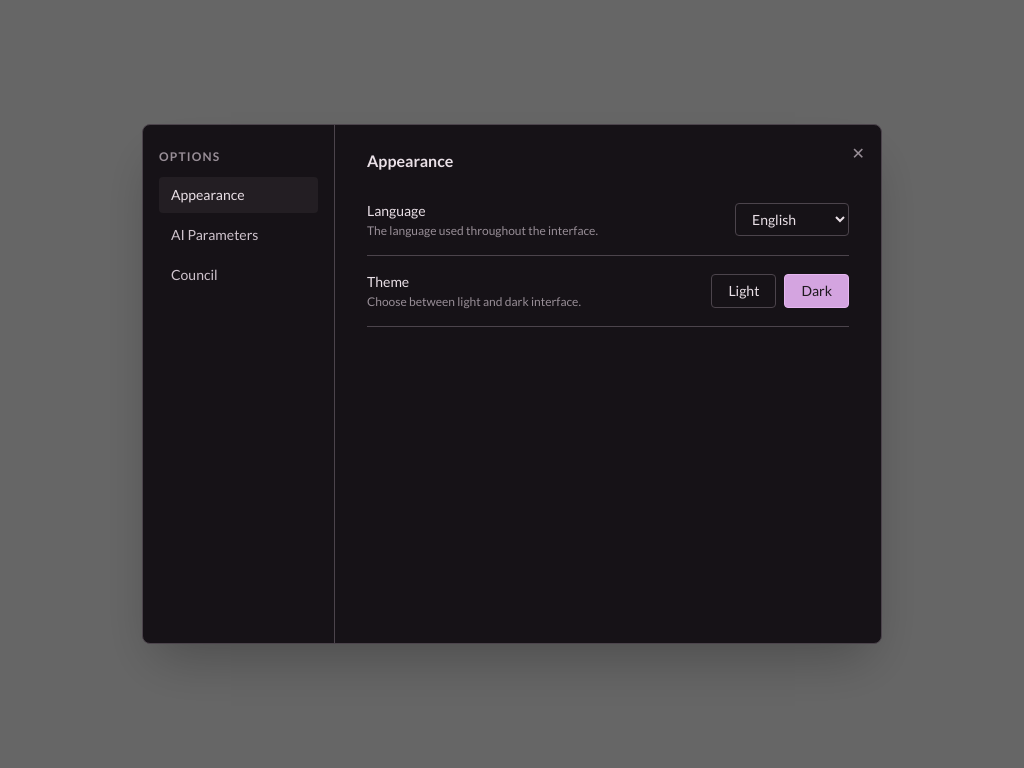
Test: SettingsModal › navigation › shows General content when switching back from Parameters
Click the button "AI parameters".
click(238, 235)  # box [159,217,318,253]
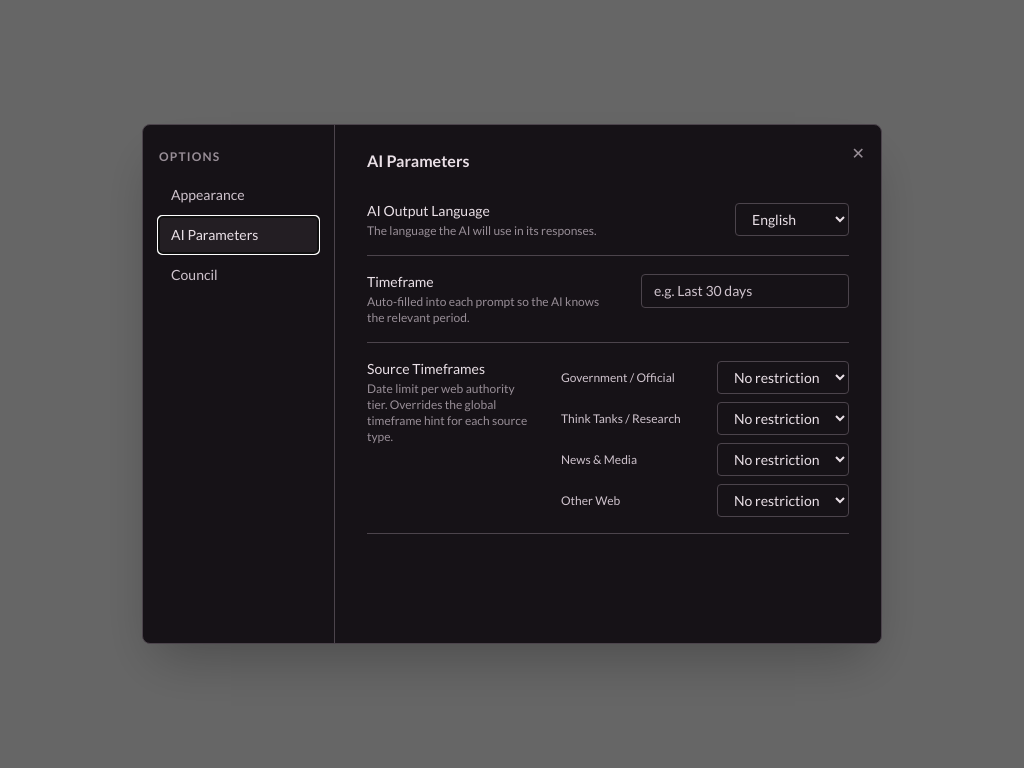
Click the button "appearance".
click(238, 195)  # box [159,177,318,213]
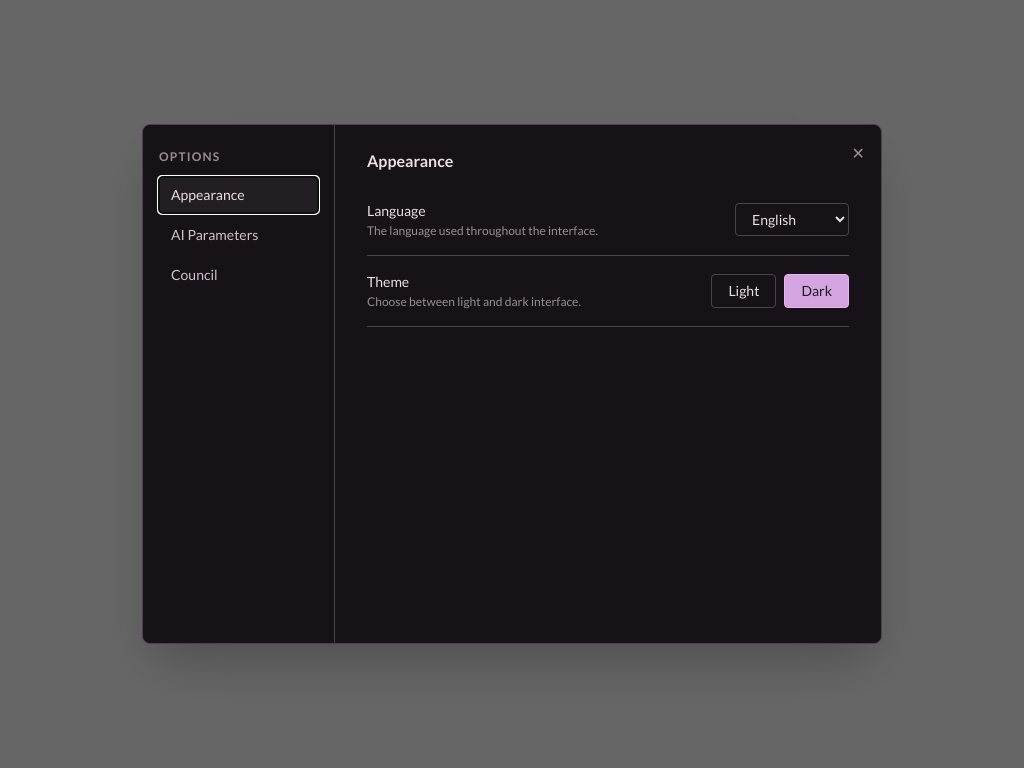
Now the text "Language" is shown, box [367,202,426,219]
